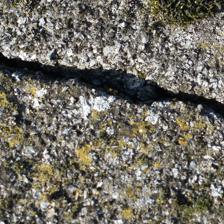Crack: (3, 23, 217, 102)
